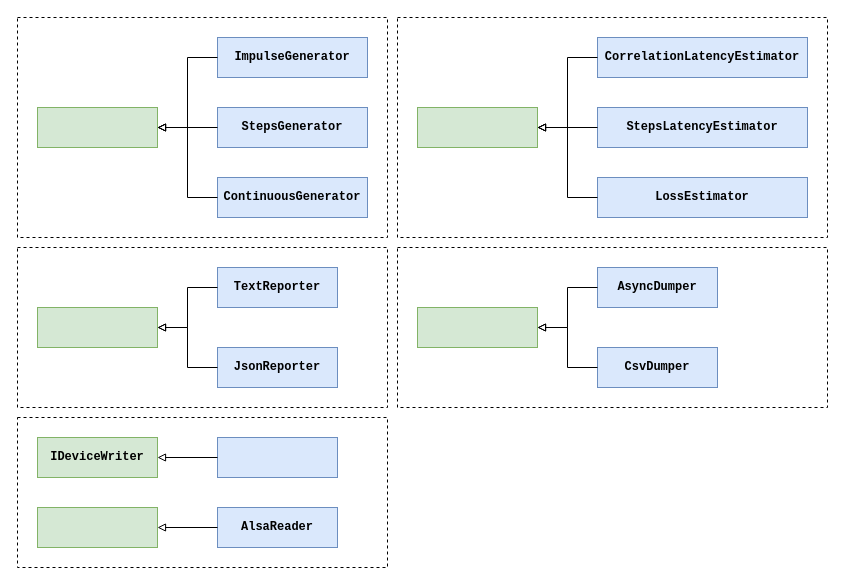
Some shapes in this 845 by 585 pixel diagram are drawn without their labels. The shapes that lost their labels are listed below. From the top down, each one's box as (x1, y1, x2, y2) in pixels, then its label:
(36, 106, 158, 148): IGenerator
(416, 106, 538, 148): IEstimator
(36, 306, 158, 348): IReporter
(416, 306, 538, 348): IDumper
(216, 436, 338, 478): AlsaWriter
(36, 506, 158, 548): IDeviceReader
